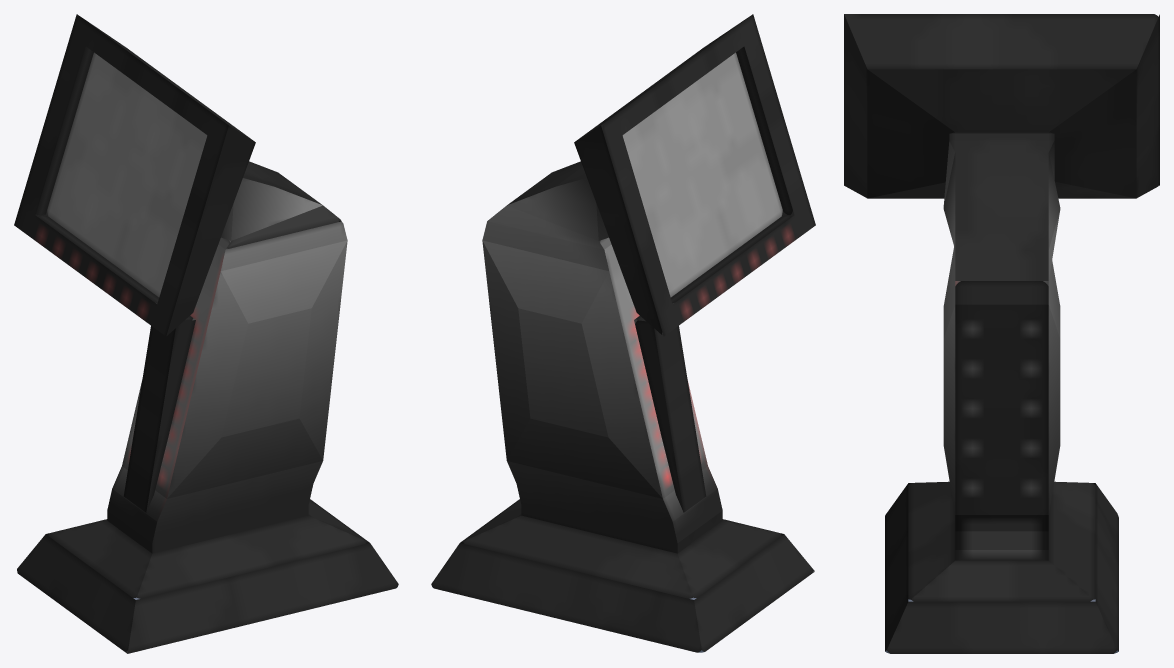
Rendered from terminal.fbx.
3 renders of one model, left to right at view 1: azimuth 30°, elevation 25°; view 2: azimuth 150°, elevation 25°; view 3: azimuth 270°, elevation 25°, orthographic. The views are drawn at different scales.
Parts seen in each view (by area): view 1: terminal; view 2: terminal; view 3: terminal.
Part boxes in pixels (<box>): terminal: <box>14,14,398,653</box>; terminal: <box>431,14,815,652</box>; terminal: <box>844,14,1159,653</box>.
Size of the model in its own units: 175 by 320 by 169.
1 material, 1 textured.
